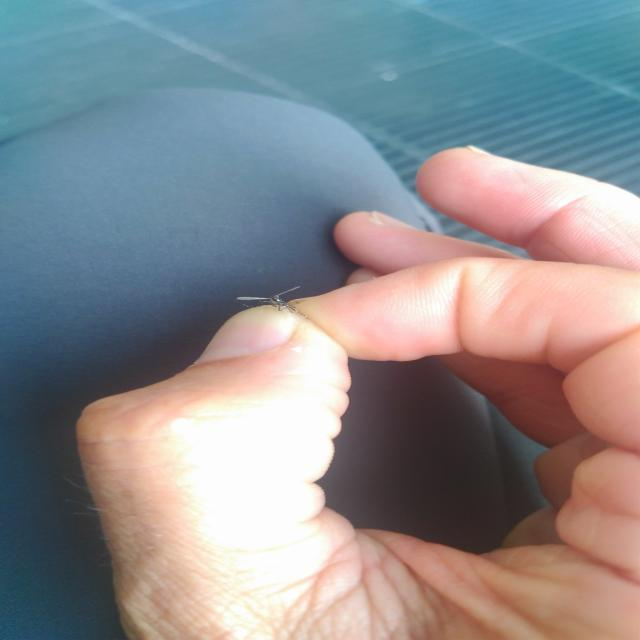albopictus: (233, 281, 313, 325)
